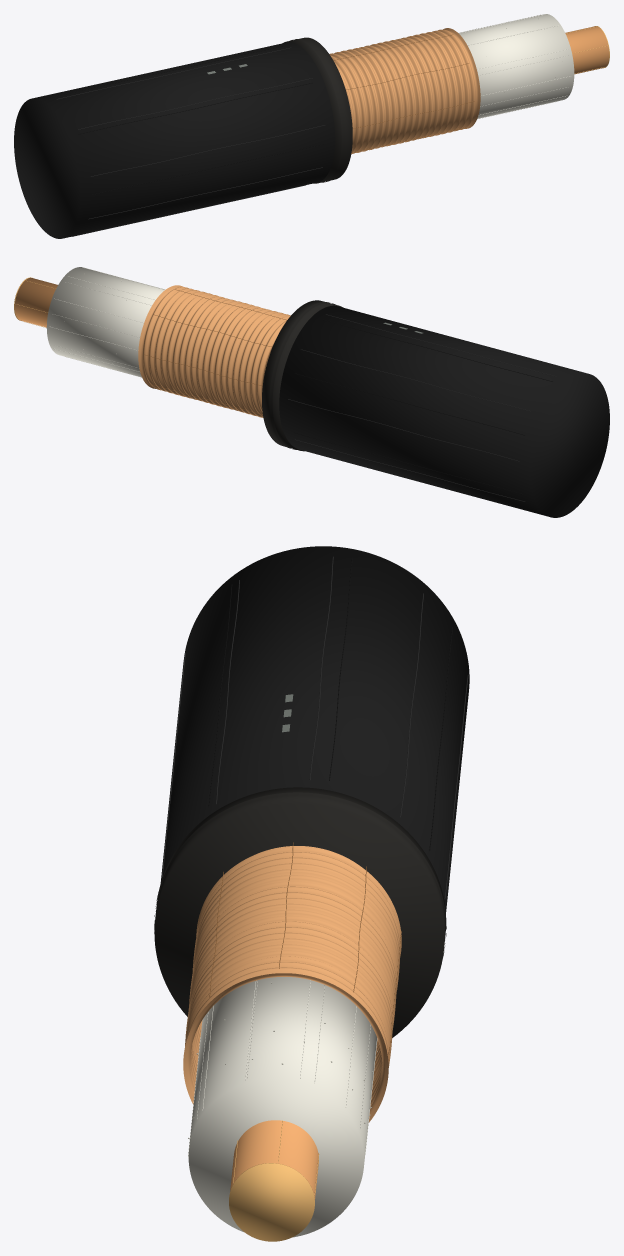
The model's file is rf-fsj2-macro.glb.
3 views of the same model, one above another, from view 1: azimuth 30°, elevation 25°; view 2: azimuth 150°, elevation 25°; view 3: azimuth 270°, elevation 25° (orthographic). The views are drawn at different scales.
Parts seen in each view (by area): view 1: macro hardline jacket body, annular corrugated solid shield, macro foam dielectric exposed core, hardline jacket cut wall, polished solid center conductor, rounded jacket cut lip; view 2: macro hardline jacket body, annular corrugated solid shield, macro foam dielectric exposed core, hardline jacket cut wall, polished solid center conductor, rounded jacket cut lip; view 3: macro hardline jacket body, macro foam dielectric exposed core, annular corrugated solid shield, hardline jacket cut wall, polished conductor cut face glow, polished solid center conductor, rounded jacket cut lip.
Part boxes in pixels (x1,y1,x2,y2): macro hardline jacket body: (14, 42, 335, 238); annular corrugated solid shield: (329, 28, 480, 154); macro foam dielectric exposed core: (458, 14, 574, 118); hardline jacket cut wall: (283, 37, 352, 183); polished solid center conductor: (565, 26, 609, 74); rounded jacket cut lip: (290, 39, 345, 182); macro hardline jacket body: (279, 305, 609, 517); annular corrugated solid shield: (138, 285, 290, 417); macro foam dielectric exposed core: (46, 267, 164, 377); hardline jacket cut wall: (262, 300, 343, 451); polished solid center conductor: (14, 277, 57, 327); rounded jacket cut lip: (269, 302, 335, 449); macro hardline jacket body: (160, 546, 469, 911); macro foam dielectric exposed core: (188, 977, 376, 1237); annular corrugated solid shield: (183, 846, 401, 1122); hardline jacket cut wall: (154, 787, 445, 1037); polished conductor cut face glow: (229, 1163, 314, 1241); polished solid center conductor: (230, 1120, 318, 1199); rounded jacket cut lip: (154, 792, 446, 956).
Bounding box in the file's own units: 11.64 × 2.71 × 2.93.
